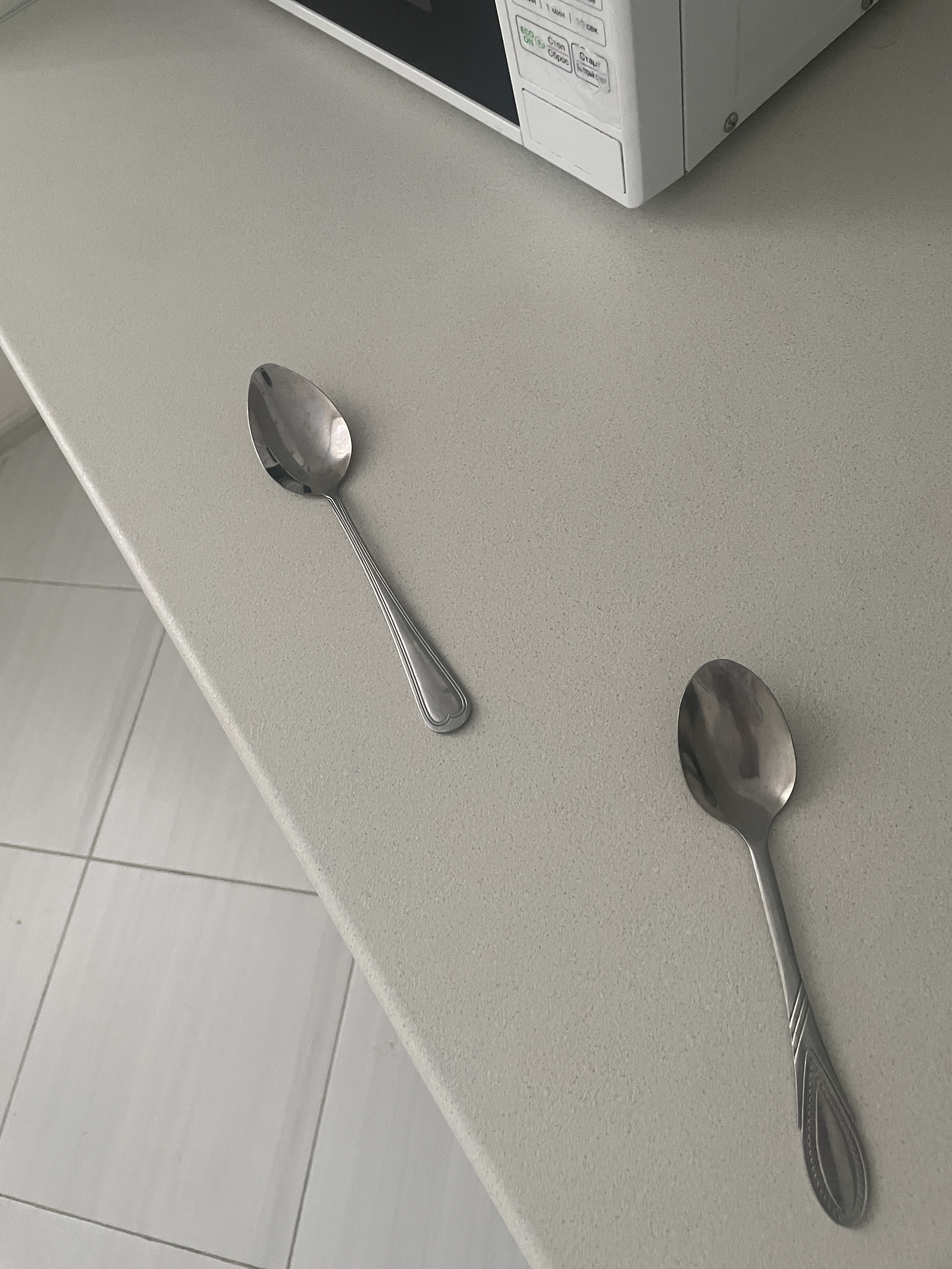spoon: (678, 659, 868, 1226), (248, 364, 470, 733)
